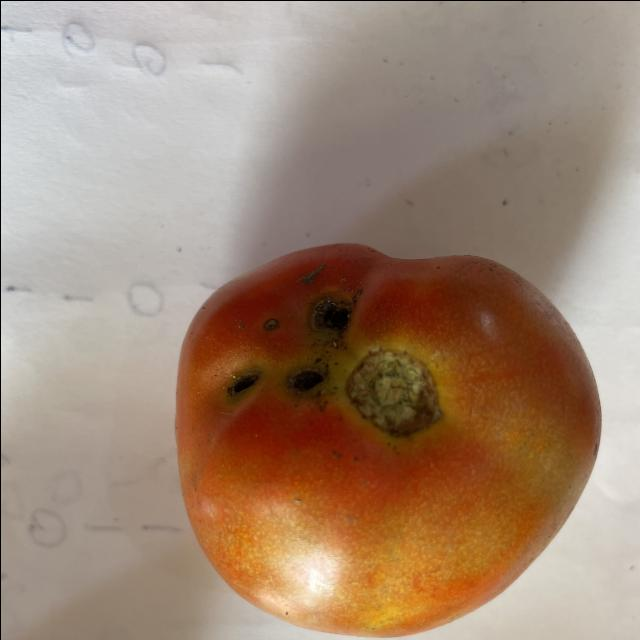fruitworm_bore: (204, 284, 354, 419)
